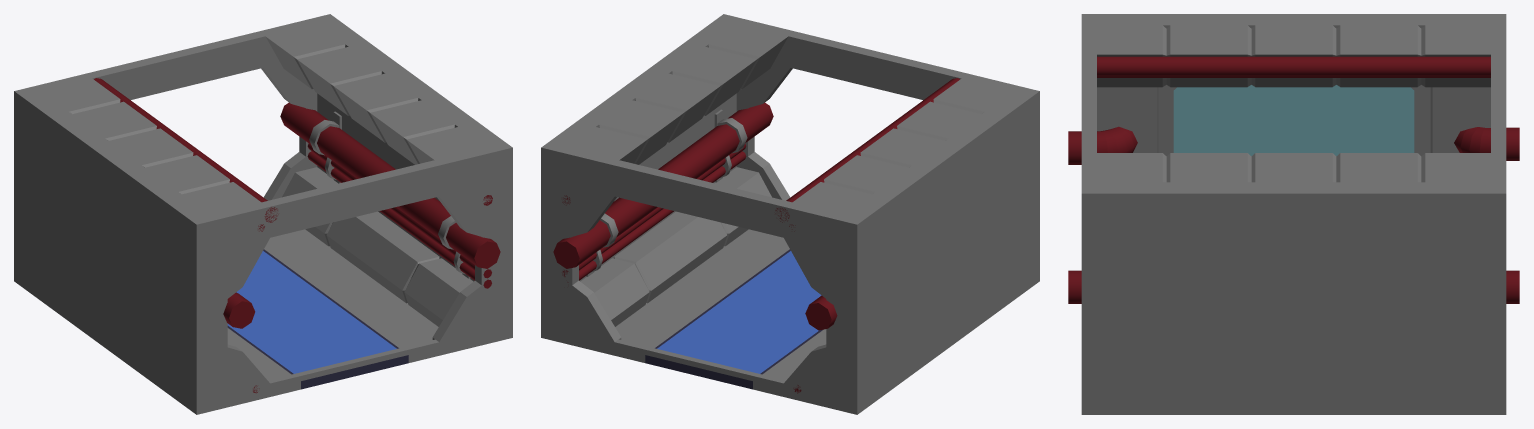
File: Path_Straight.glb
The picture shows the model from 3 angles, left to right: view 1: azimuth 30°, elevation 25°; view 2: azimuth 150°, elevation 25°; view 3: azimuth 270°, elevation 25°; orthographic projection. The views are drawn at different scales.
Parts seen in each view (by area): view 1: Path_Straight; view 2: Path_Straight; view 3: Path_Straight.
Part boxes in pixels (x1,y1,x2,y2): Path_Straight: (14,14,512,414); Path_Straight: (541,14,1039,414); Path_Straight: (1068,14,1519,414).
Size of the model in its own units: 8 by 4.6 by 8.5.
